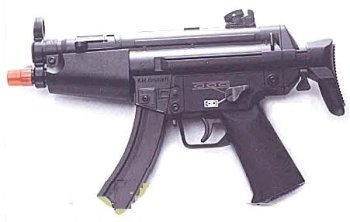rifle: (7, 11, 345, 218)
